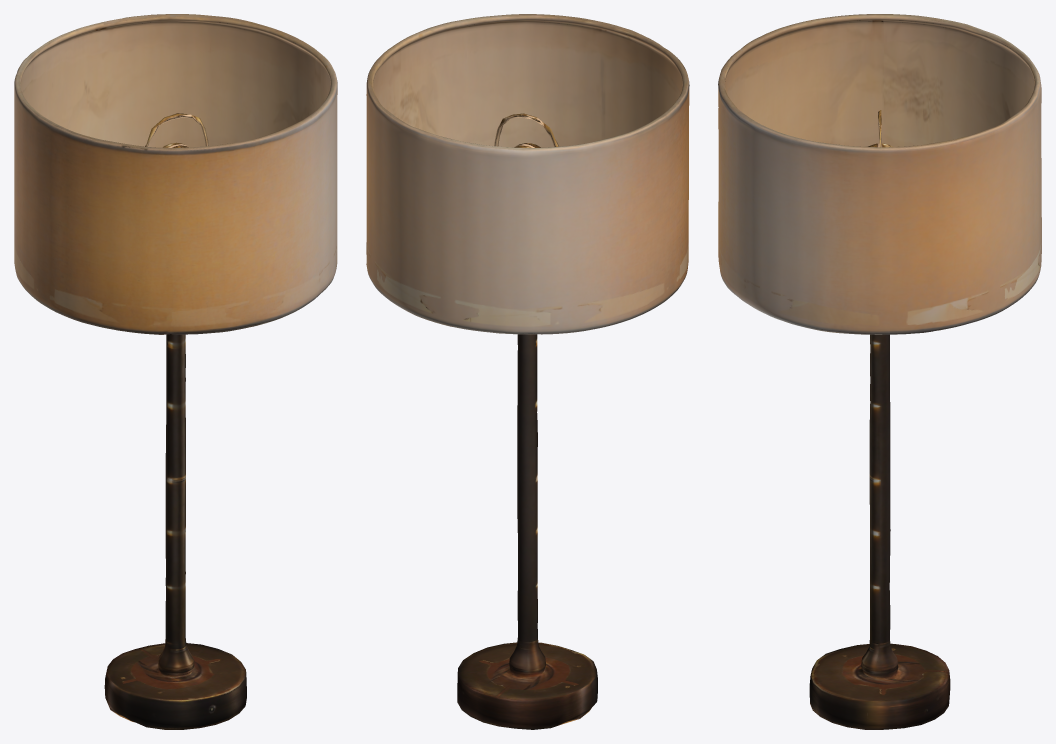
File: room_lamp_0203232106_texture.fbx
The picture shows the model from 3 angles, left to right: view 1: azimuth 30°, elevation 25°; view 2: azimuth 150°, elevation 25°; view 3: azimuth 270°, elevation 25°; orthographic projection.
Visible parts, largest first — view 1: Mesh1_Mesh1.013; view 2: Mesh1_Mesh1.013; view 3: Mesh1_Mesh1.013.
Boxes of the visible parts, bbox=[...] form: Mesh1_Mesh1.013: bbox=[14, 14, 337, 729]; Mesh1_Mesh1.013: bbox=[366, 14, 689, 729]; Mesh1_Mesh1.013: bbox=[718, 14, 1041, 729].
Size of the model in its own units: 94.39 by 200 by 94.72.
1 material, 1 textured.
